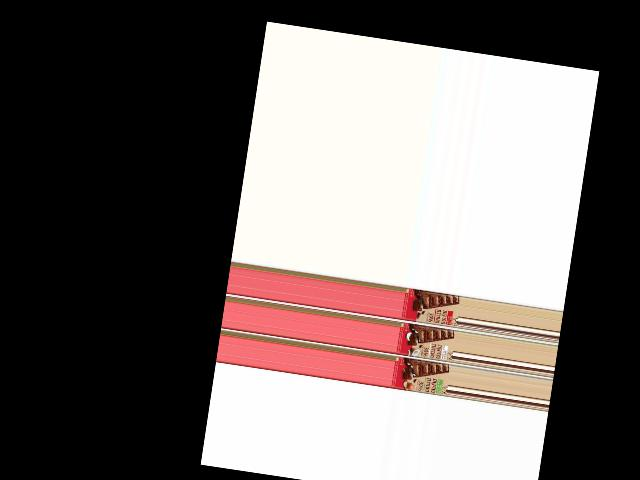chocolate: (390, 356, 450, 397)
